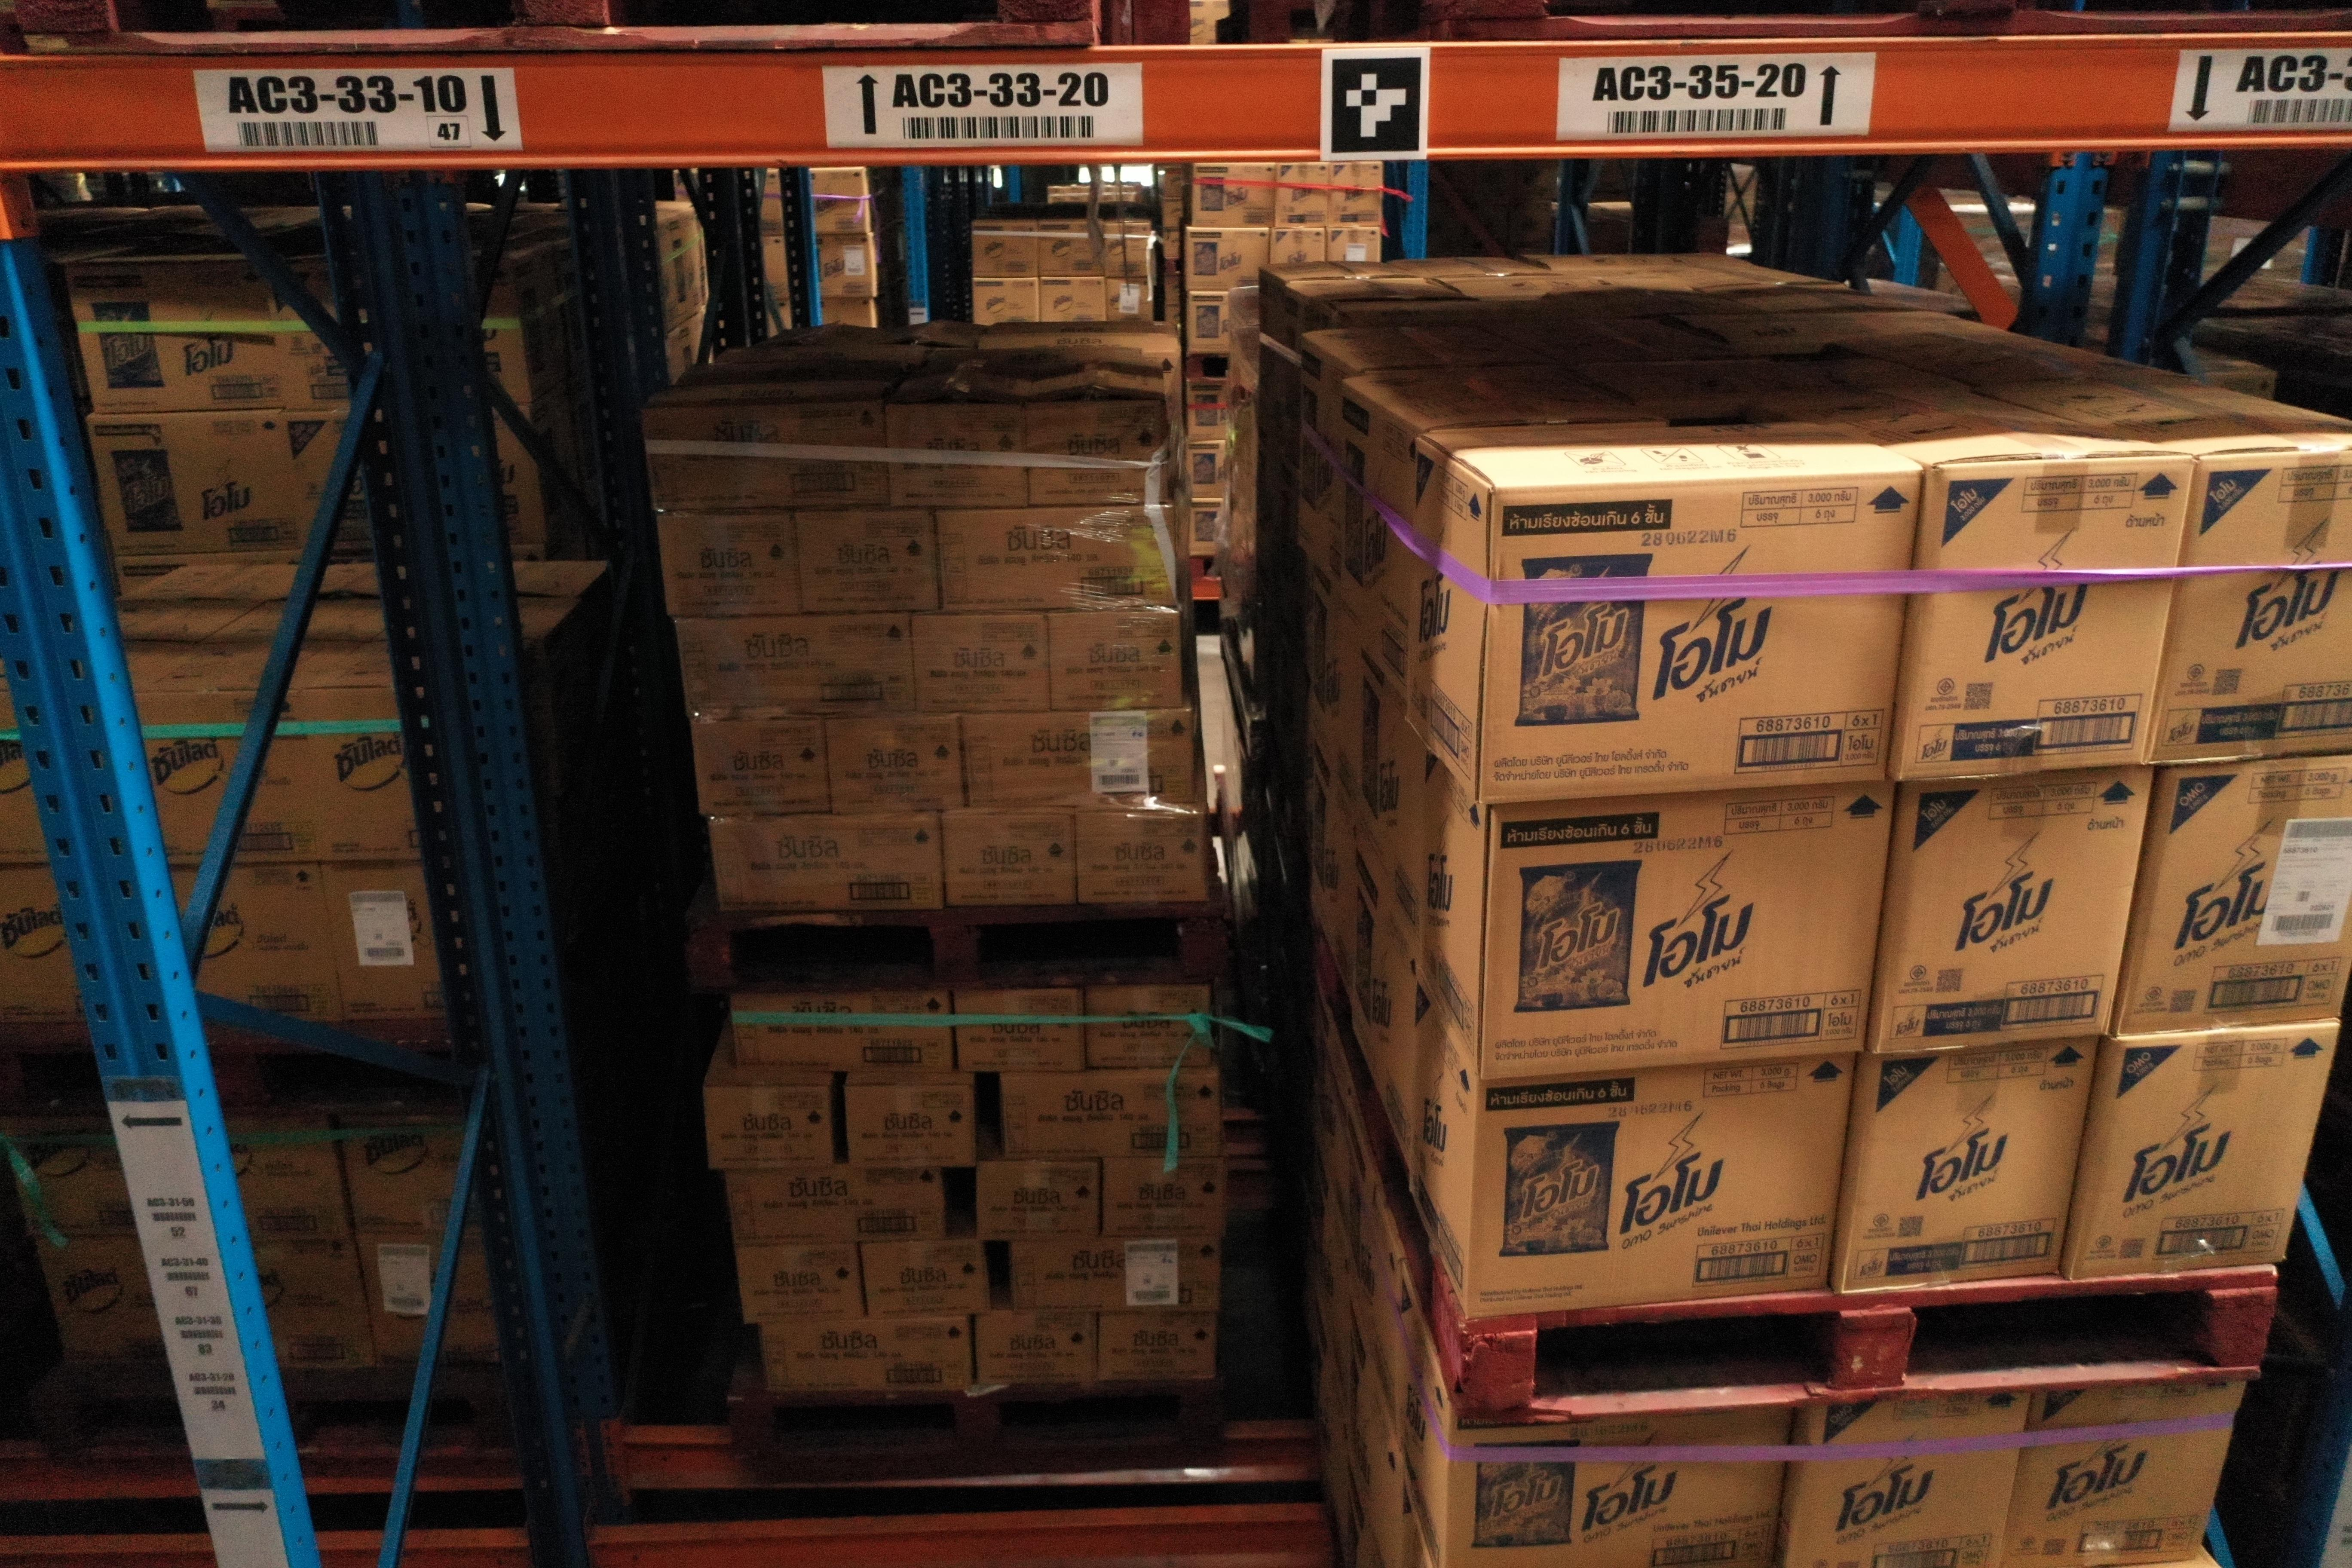-: (1475, 469, 1921, 808), (1484, 780, 1895, 1080), (1466, 1053, 1857, 1319), (1900, 457, 2200, 782), (1872, 765, 2154, 1057), (2070, 1024, 2340, 1281), (2114, 754, 2352, 1041), (1839, 1034, 2102, 1293), (2149, 450, 2352, 763), (1445, 1403, 1797, 1568), (2004, 1377, 2247, 1563), (1780, 1393, 2028, 1568)
2: (63, 262, 283, 411), (87, 411, 303, 558), (255, 262, 353, 411), (283, 409, 373, 546)
box: (129, 689, 322, 866), (166, 859, 341, 1022), (642, 399, 889, 513), (677, 612, 917, 723), (934, 507, 1174, 614), (710, 812, 945, 913), (962, 710, 1192, 814), (296, 684, 422, 864), (320, 859, 451, 1020), (1003, 1067, 1221, 1162), (350, 1230, 497, 1368), (31, 1232, 173, 1367), (731, 989, 955, 1073), (726, 1169, 945, 1255), (759, 1312, 971, 1396), (334, 1109, 476, 1232), (247, 1237, 374, 1367), (885, 401, 1032, 511), (224, 1111, 350, 1239), (1025, 399, 1167, 511), (656, 513, 803, 619), (910, 612, 1053, 721), (1045, 607, 1185, 714), (794, 513, 941, 614), (1013, 1241, 1221, 1311), (695, 714, 833, 817), (941, 808, 1076, 912), (824, 716, 962, 815), (1074, 807, 1204, 905), (950, 987, 1081, 1073), (700, 1087, 833, 1171), (842, 1087, 975, 1171), (1101, 1155, 1221, 1244), (1085, 987, 1213, 1071), (976, 1160, 1099, 1246), (731, 1246, 864, 1323), (861, 1241, 989, 1319), (976, 1311, 1094, 1395), (1097, 1309, 1216, 1389)
